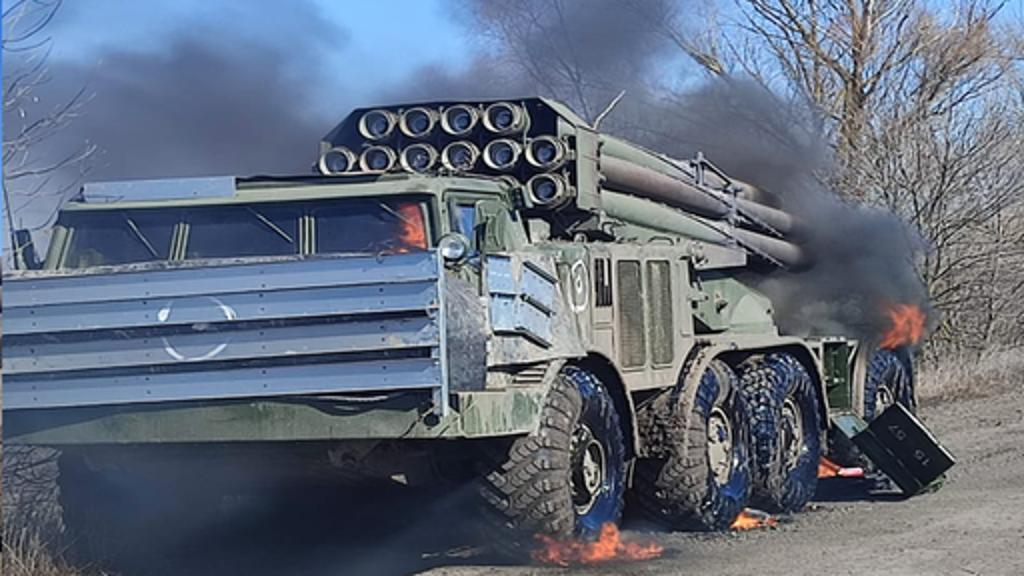MLRS: (0, 76, 942, 558)
